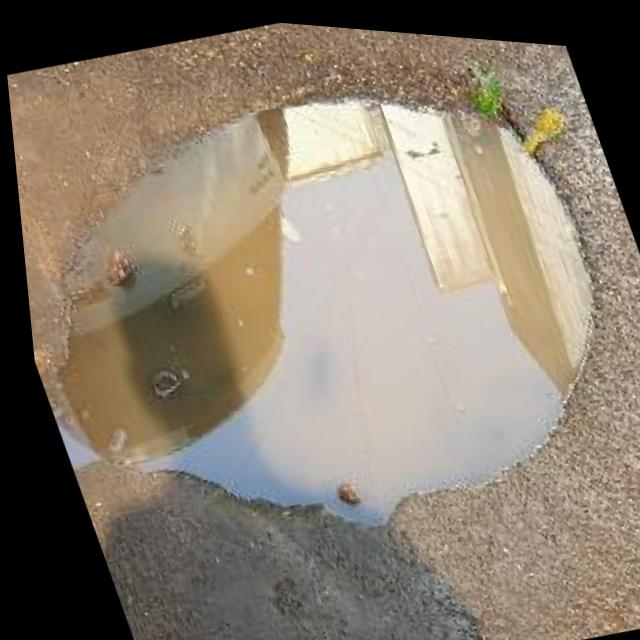puddle: (47, 95, 596, 502)
